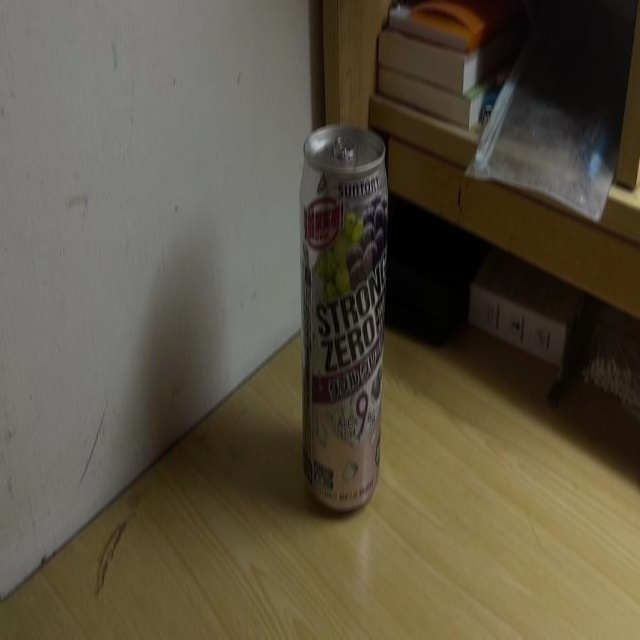Liquor: (299, 125, 384, 513)
